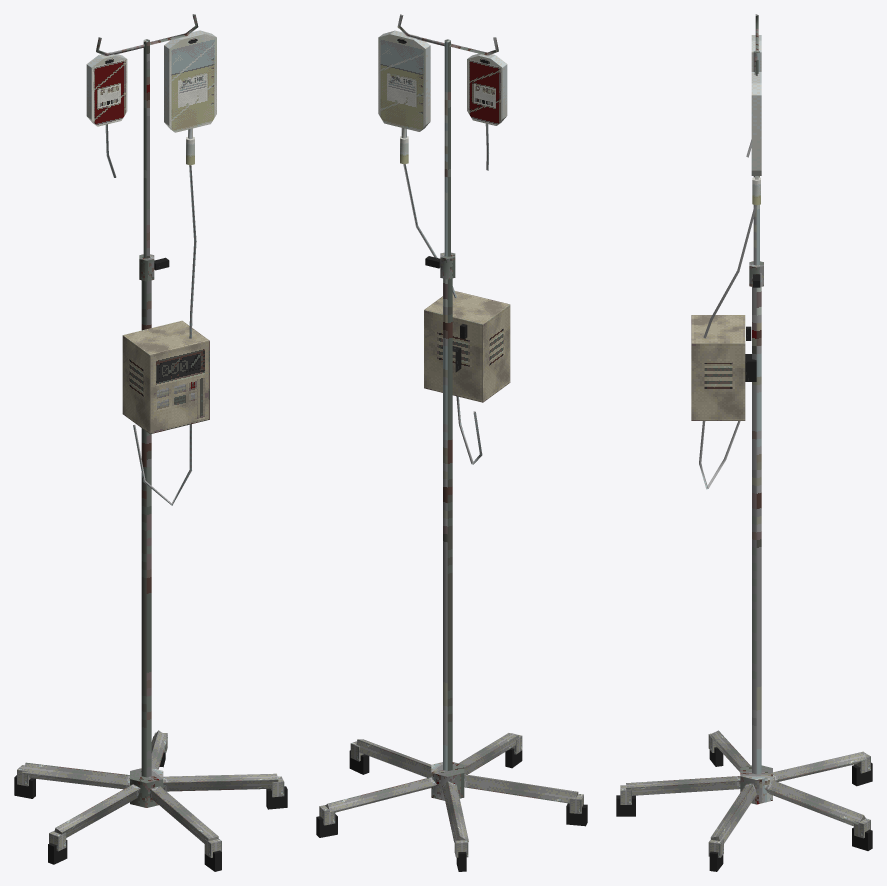
The model's file is iv_stand.glb.
The picture shows the model from 3 angles, left to right: view 1: azimuth 30°, elevation 25°; view 2: azimuth 150°, elevation 25°; view 3: azimuth 270°, elevation 25°; orthographic projection.
Parts seen in each view (by area): view 1: iv_stand; view 2: iv_stand; view 3: iv_stand.
Part boxes in pixels (left/top/right/bottom): iv_stand: left=14, top=14, right=287, bottom=871; iv_stand: left=316, top=14, right=587, bottom=871; iv_stand: left=616, top=14, right=872, bottom=871.
Bounding box in the file's own units: 0.5989 × 1.91 × 0.5696.
1 material, 1 textured.
